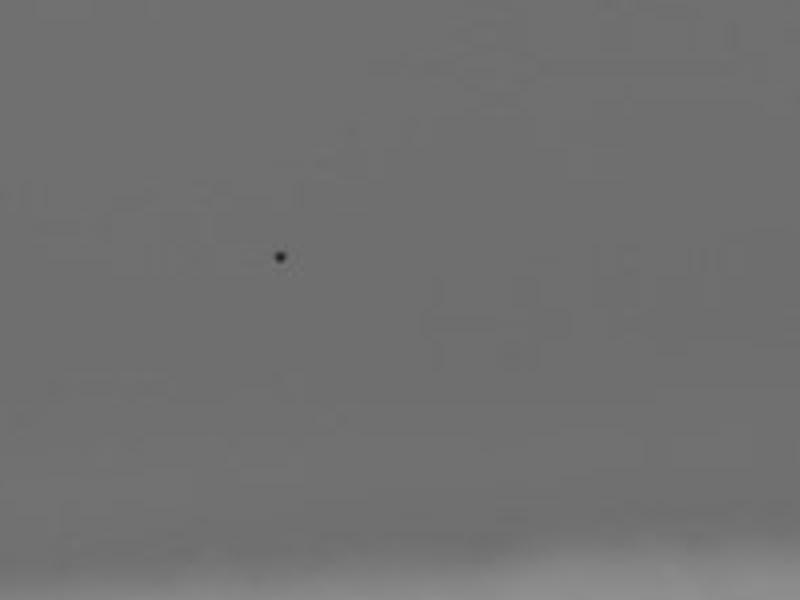defect: (268, 247, 289, 268)
